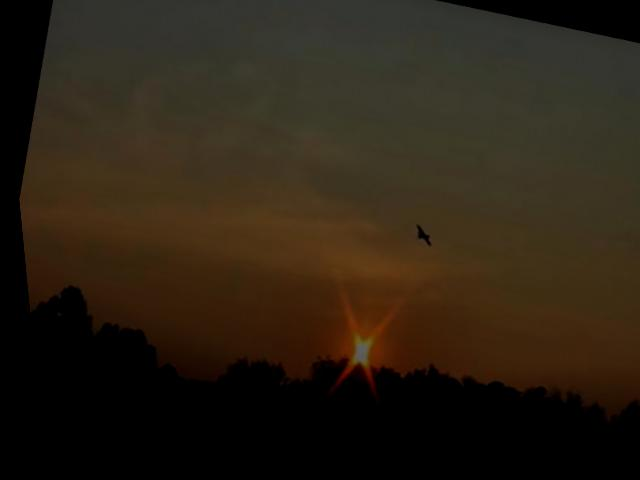iha: (409, 229, 429, 250)
